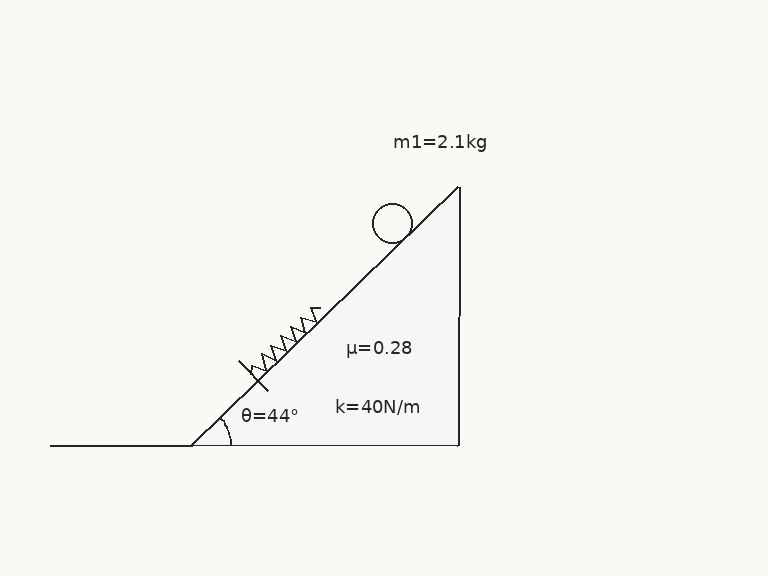ball: (370, 201, 414, 245)
ramp: (189, 185, 460, 447)
spring: (249, 305, 323, 376)
